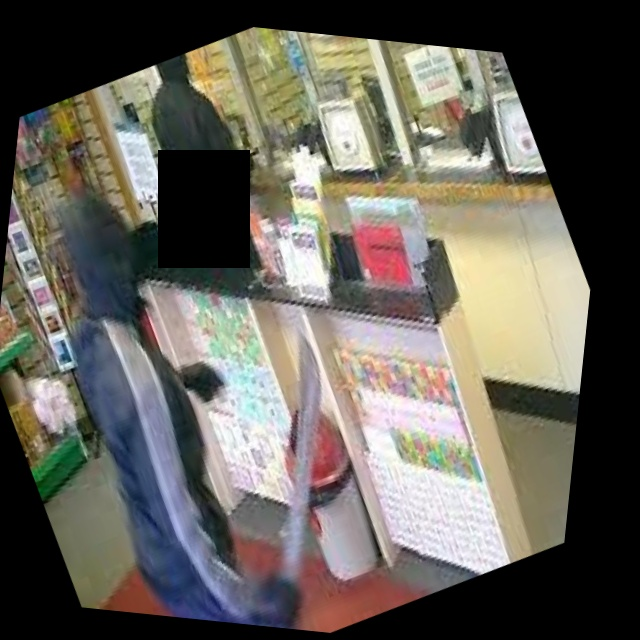gun: (176, 303, 422, 603)
